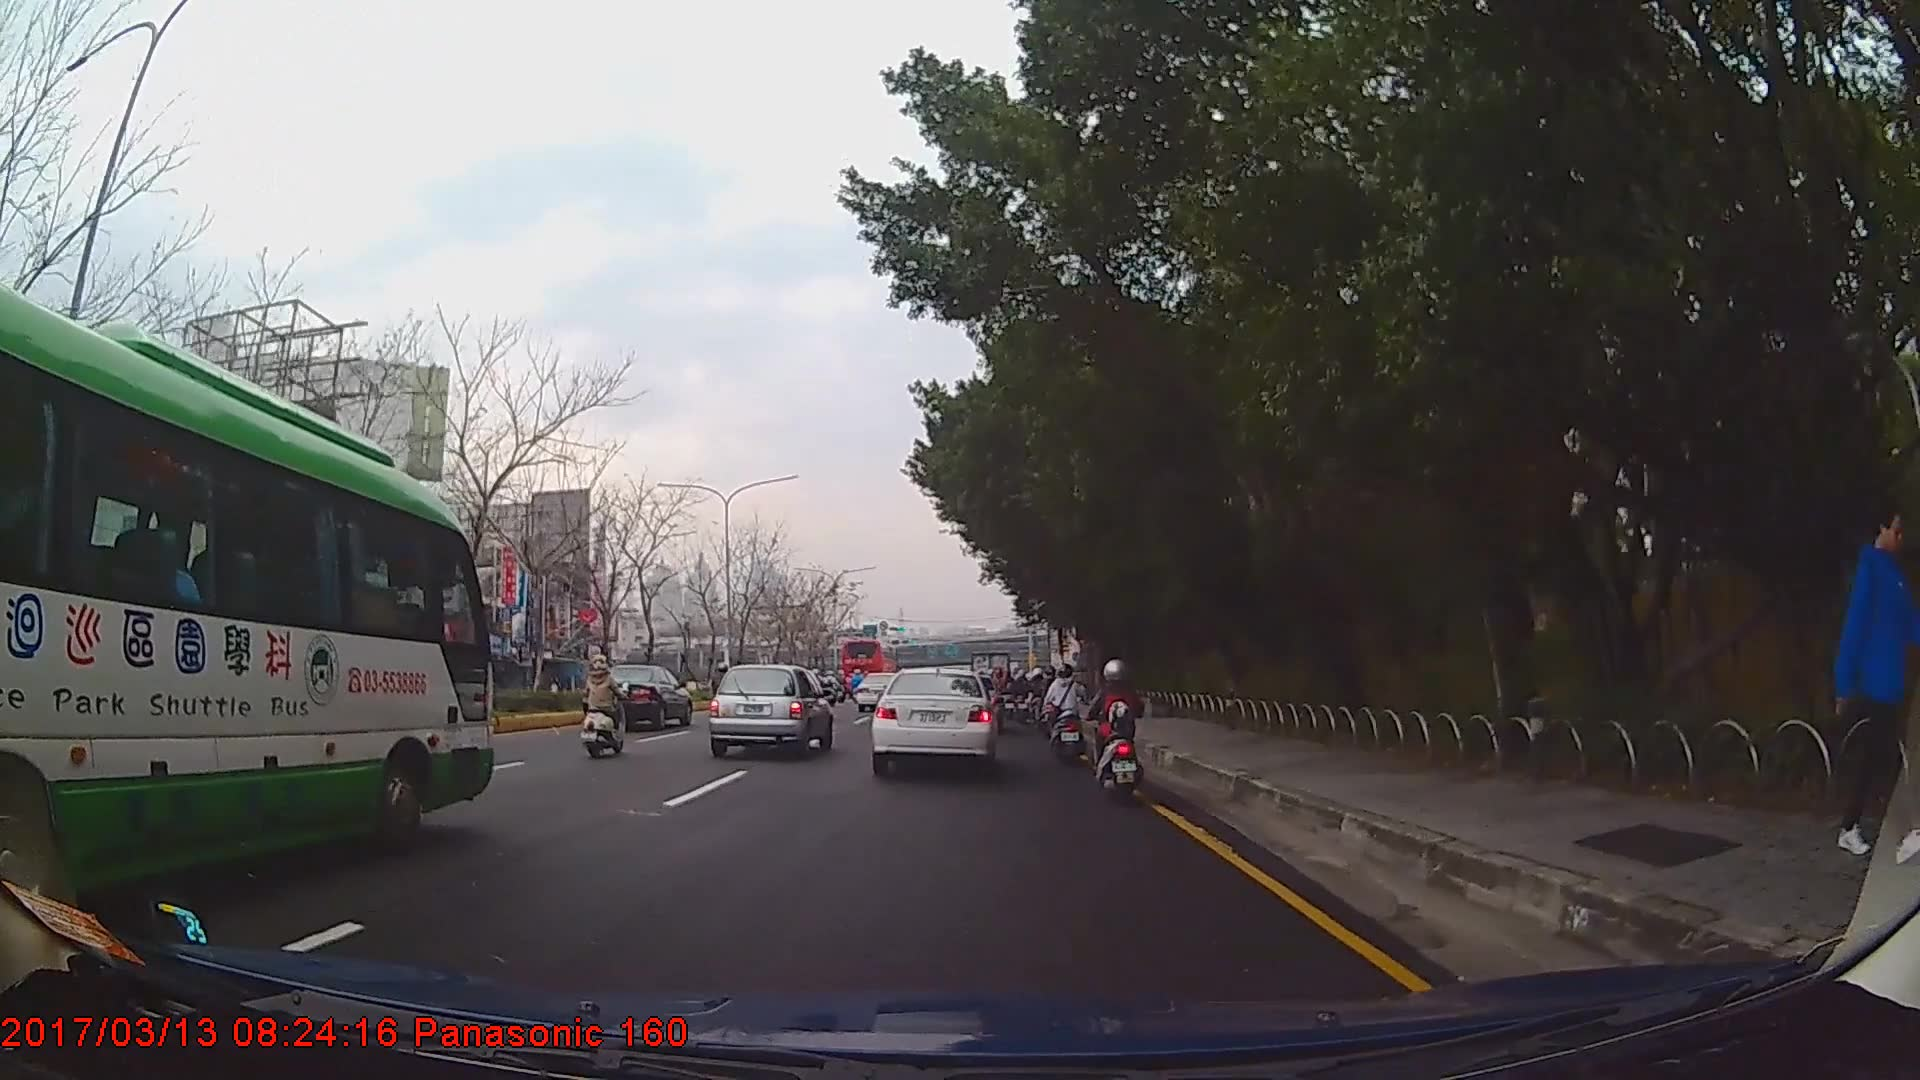pedestrian: (1833, 506, 1920, 862)
rider: (1091, 658, 1149, 798), (1044, 655, 1088, 762), (584, 657, 630, 757), (1039, 664, 1061, 746)
vehicle: (0, 275, 496, 927), (869, 666, 998, 773), (707, 661, 833, 755), (582, 663, 691, 732), (837, 636, 899, 694)
